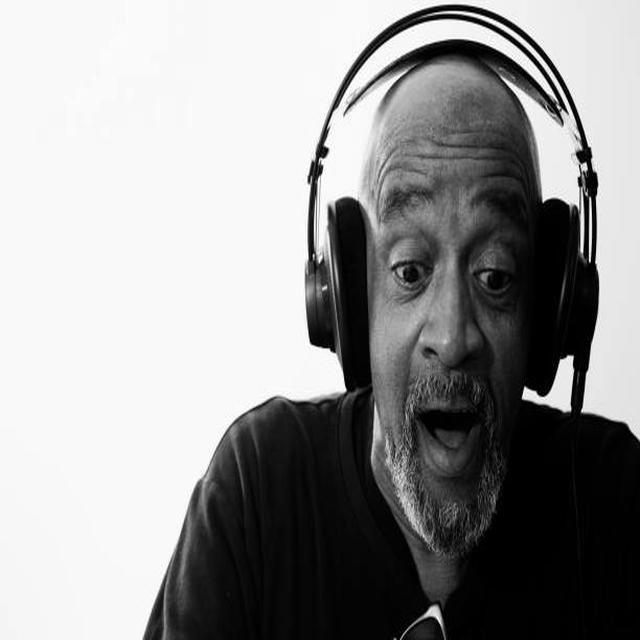Surprised: (366, 82, 543, 555)
